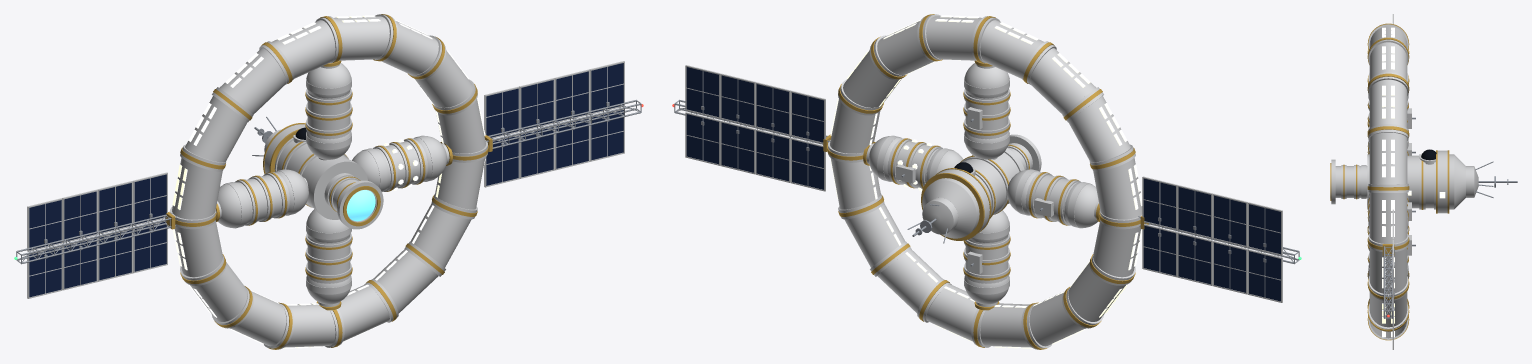
The model's file is station.glb.
The picture shows the model from 3 angles, left to right: view 1: azimuth 30°, elevation 25°; view 2: azimuth 150°, elevation 25°; view 3: azimuth 270°, elevation 25°; orthographic projection. The views are drawn at different scales.
Parts seen in each view (by area): view 1: station_hull, station_solar, station_gold, station_truss, station_windows, dock_field; view 2: station_hull, station_solar, station_gold, station_windows, station_truss; view 3: station_hull, station_gold, station_windows, station_truss.
Part boxes in pixels (x1,y1,x2,y2): station_hull: (27, 14, 624, 349); station_solar: (29, 63, 623, 297); station_gold: (166, 14, 492, 349); station_truss: (16, 99, 641, 264); station_windows: (172, 15, 485, 348); dock_field: (346, 190, 375, 221); station_hull: (685, 14, 1282, 349); station_solar: (686, 67, 1280, 301); station_gold: (823, 14, 1148, 349); station_windows: (830, 15, 1142, 348); station_truss: (674, 99, 1299, 266); station_hull: (1331, 14, 1478, 349); station_gold: (1330, 23, 1449, 340); station_windows: (1382, 27, 1445, 337); station_truss: (1383, 117, 1517, 318).
Size of the model in its own units: 60.07 by 29.92 by 17.7.
